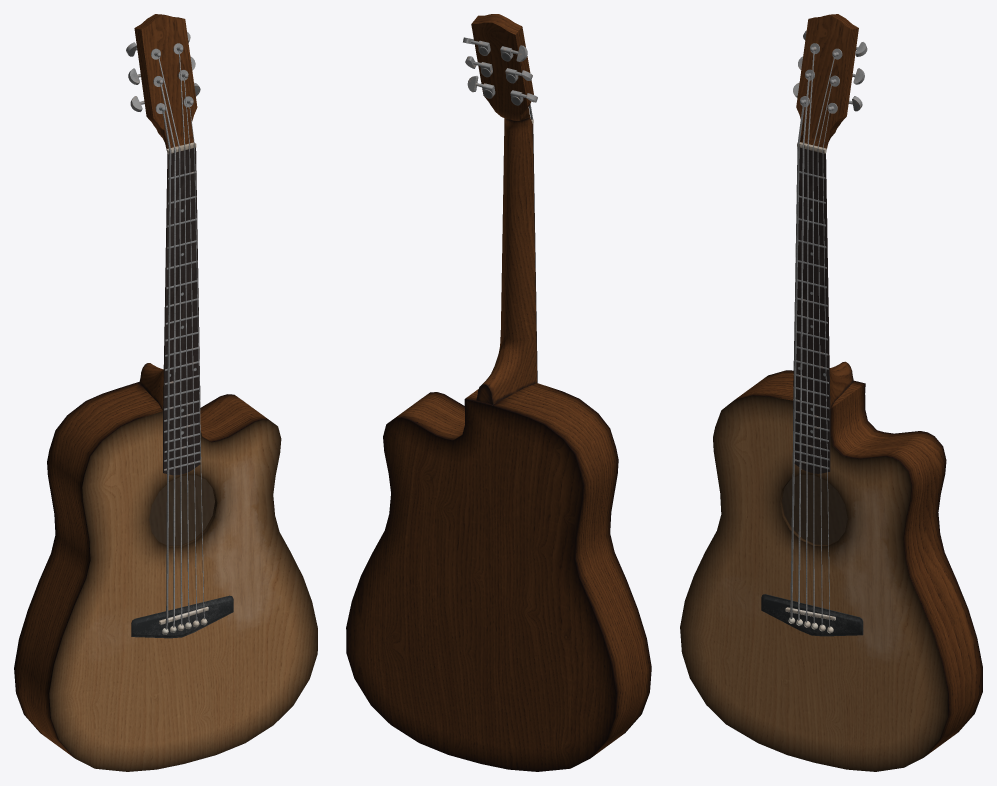
File: acoustic_guitar.glb
3 renders of one model, left to right at view 1: azimuth 30°, elevation 25°; view 2: azimuth 150°, elevation 25°; view 3: azimuth 330°, elevation 25°, orthographic.
Parts seen in each view (by area): view 1: Acoustic Guitar; view 2: Acoustic Guitar; view 3: Acoustic Guitar.
Boxes of the visible parts, bbox=[...] form: Acoustic Guitar: bbox=[14, 14, 317, 771]; Acoustic Guitar: bbox=[346, 14, 651, 771]; Acoustic Guitar: bbox=[680, 14, 982, 771].
Bounding box in the file's own units: 0.3981 × 1.04 × 0.0992.
1 material, 1 textured.
